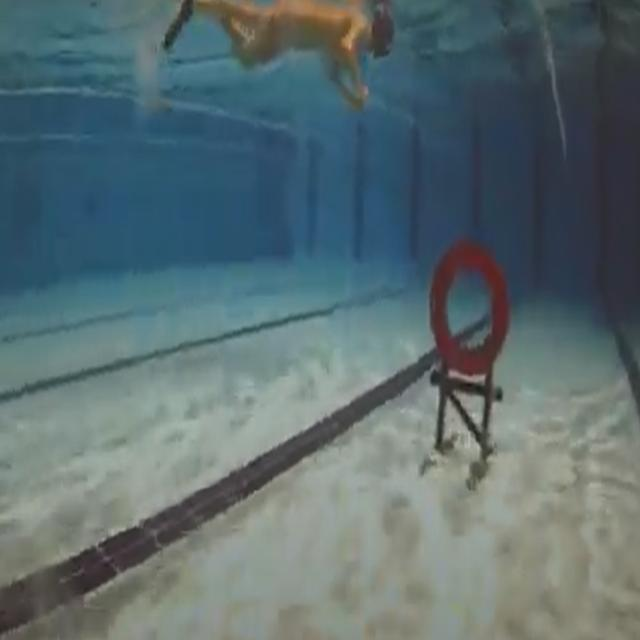Circle: (430, 242, 510, 375)
